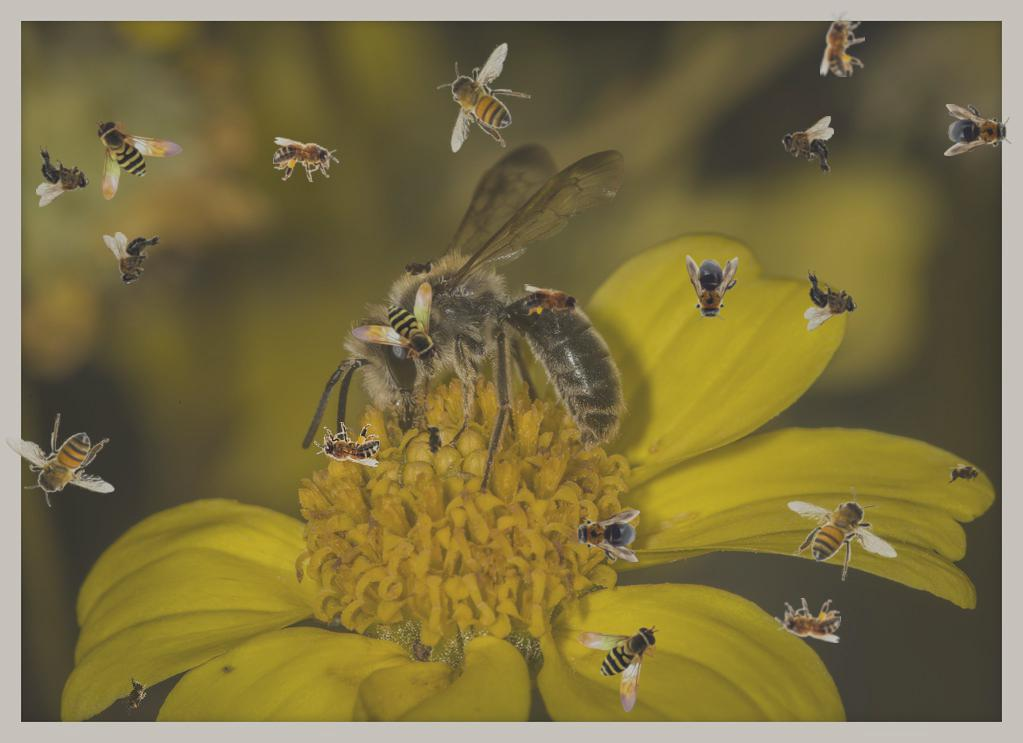Bee: (437, 42, 531, 153), (4, 413, 115, 507), (787, 487, 898, 581), (351, 282, 439, 364), (577, 625, 659, 713), (95, 118, 183, 200), (572, 510, 640, 562), (686, 255, 738, 323), (944, 104, 1012, 156), (103, 232, 165, 285), (781, 116, 834, 178), (36, 145, 89, 207), (804, 269, 857, 331), (820, 11, 865, 77), (314, 422, 380, 467), (775, 598, 841, 643), (521, 284, 587, 329), (273, 137, 339, 182), (115, 673, 153, 719), (423, 420, 445, 460), (945, 463, 985, 485), (398, 257, 438, 279)
